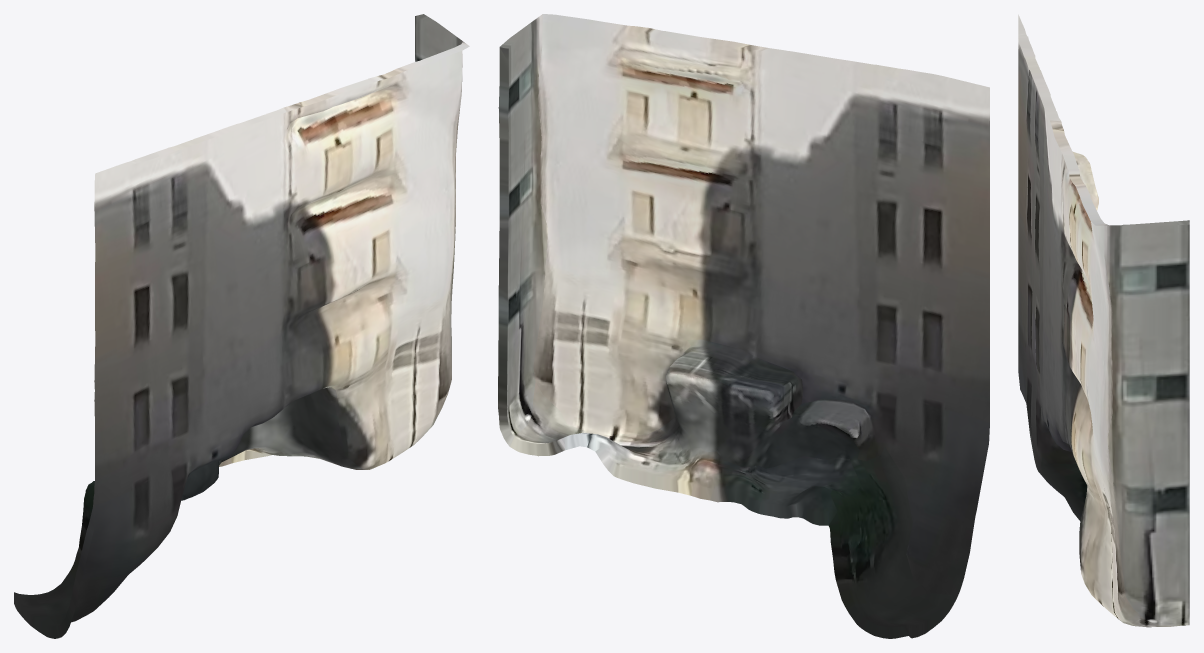
The model's file is z20-167757-405236-h0-yup-uvflip-v3-world.glb.
The picture shows the model from 3 angles, left to right: view 1: azimuth 30°, elevation 25°; view 2: azimuth 150°, elevation 25°; view 3: azimuth 270°, elevation 25°; orthographic projection. The views are drawn at different scales.
Size of the model in its own units: 22.32 by 25.92 by 7.64.
1 material, 1 textured.
